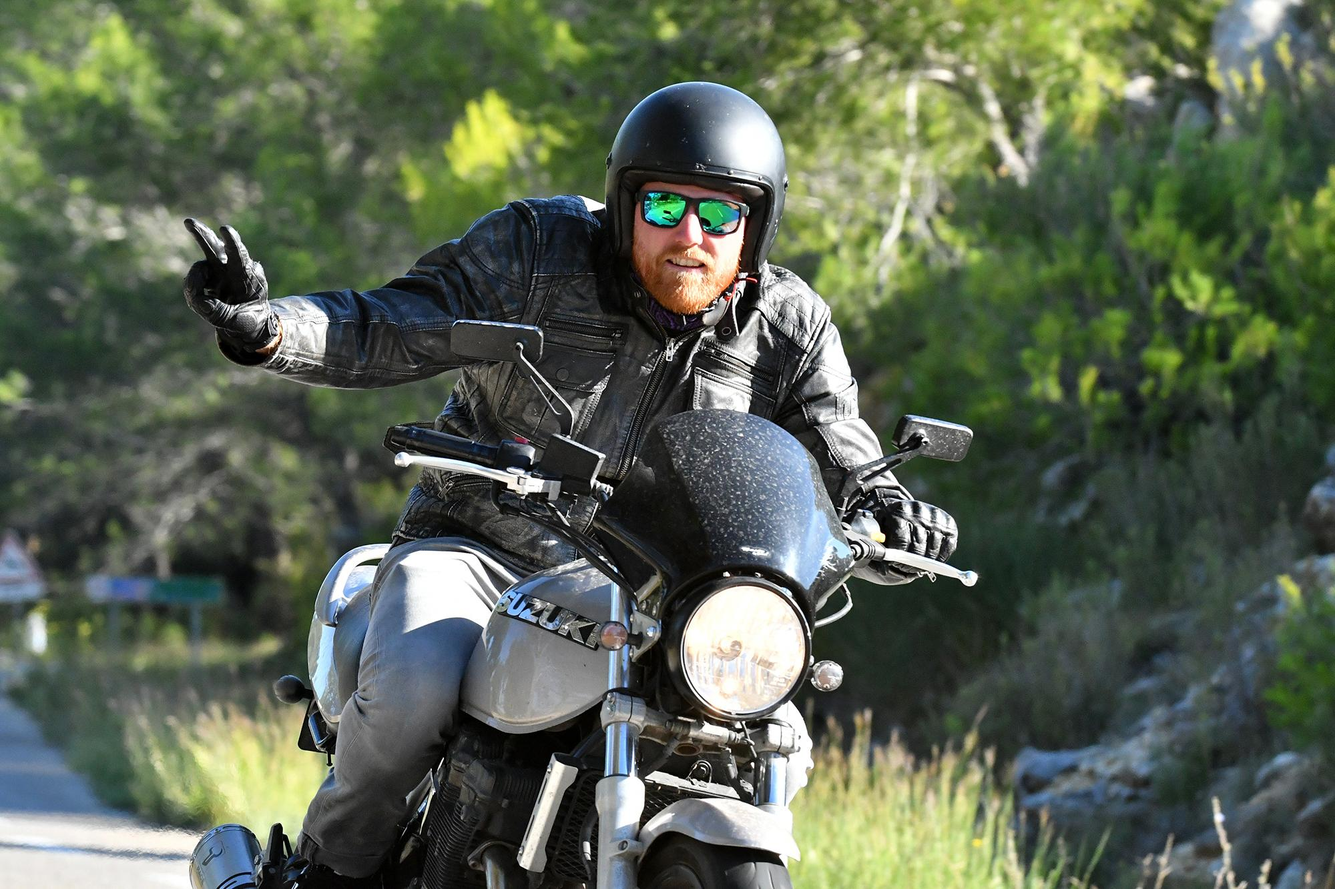helmet: (603, 80, 789, 317)
